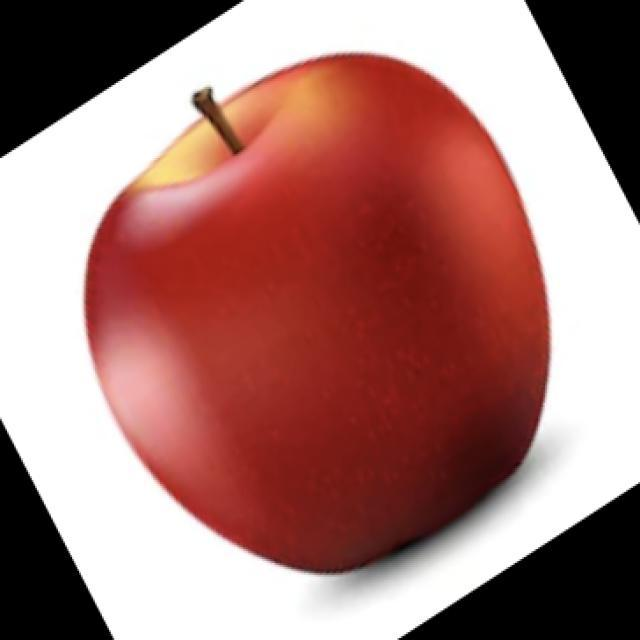Fresh Apple: (96, 73, 552, 575)
